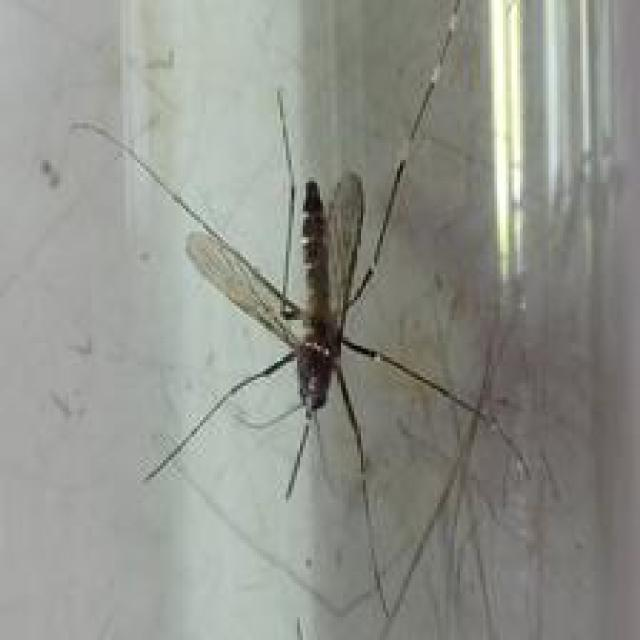Aedes albopictus: (70, 0, 564, 637)
